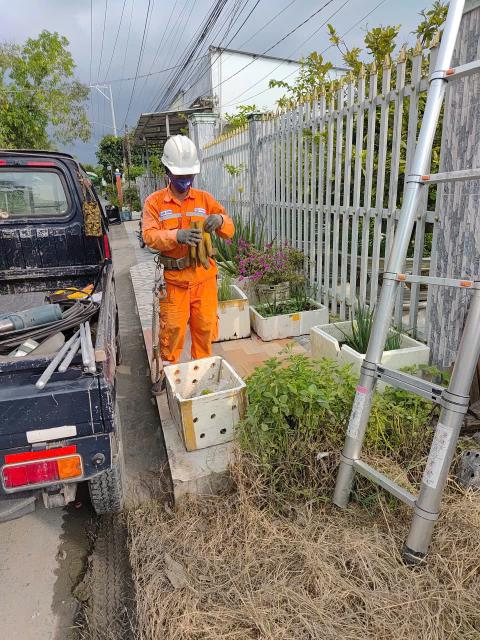gloves: (172, 226, 207, 256), (197, 210, 227, 231)
harness: (150, 246, 231, 273)
helmet: (148, 133, 209, 182)
shoes: (151, 365, 179, 402)
